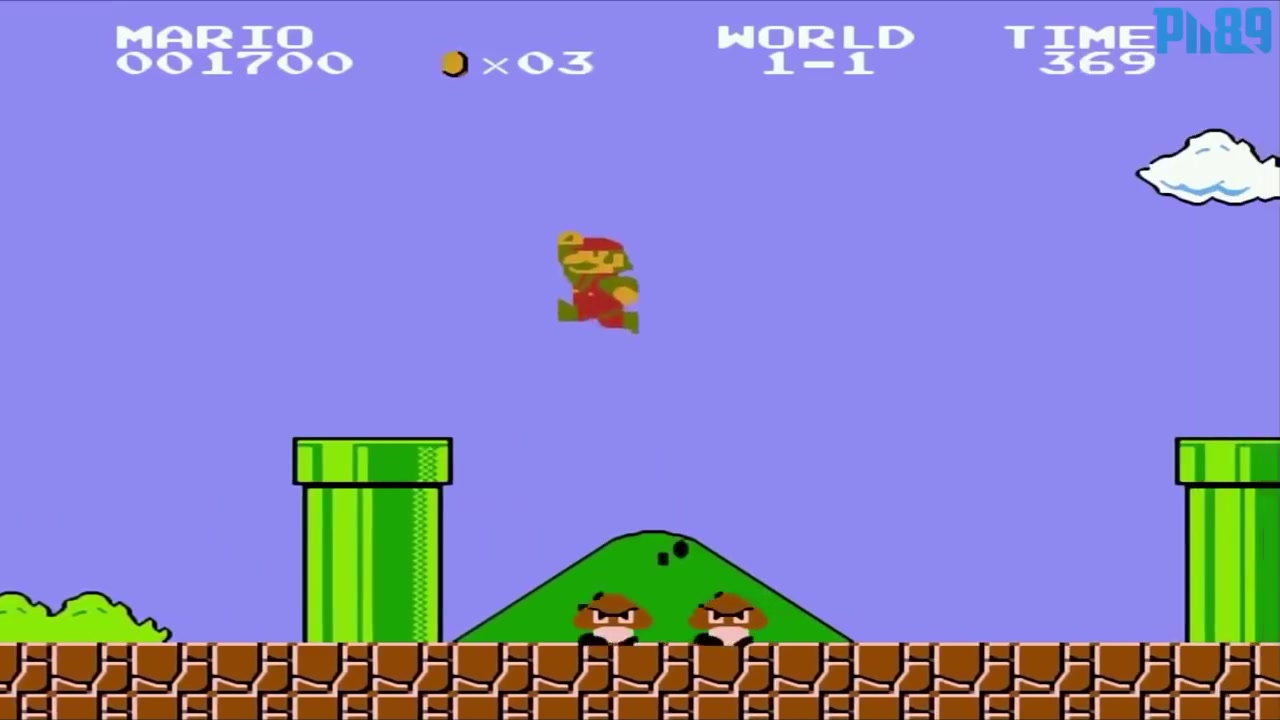mario: (546, 225, 643, 342)
